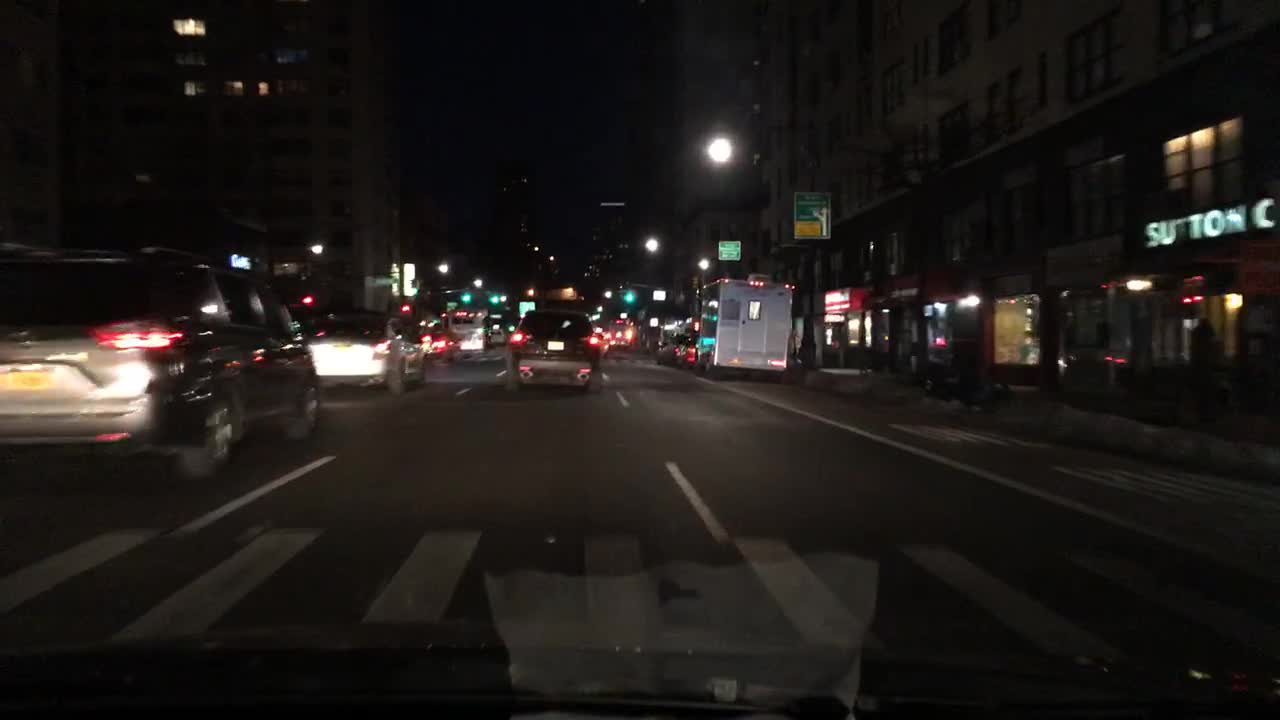car: (0, 238, 322, 481), (307, 311, 430, 395), (507, 310, 601, 391), (448, 308, 491, 353), (418, 330, 463, 358), (673, 328, 695, 367), (655, 332, 679, 365), (610, 319, 633, 348), (595, 330, 612, 354), (489, 326, 507, 345)
traffic light: (461, 289, 471, 304), (622, 291, 634, 302), (489, 294, 498, 307)
traffic sign: (791, 192, 832, 239), (716, 239, 739, 260), (519, 299, 535, 312), (654, 288, 666, 300)
truck: (692, 277, 793, 379)
